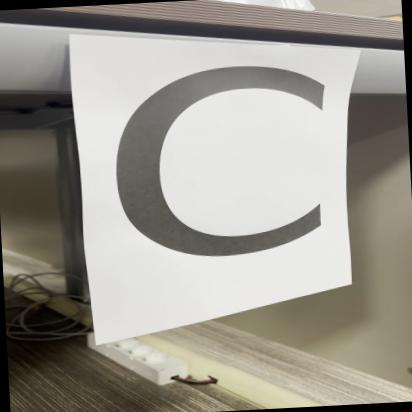seat: (68, 26, 352, 310)
